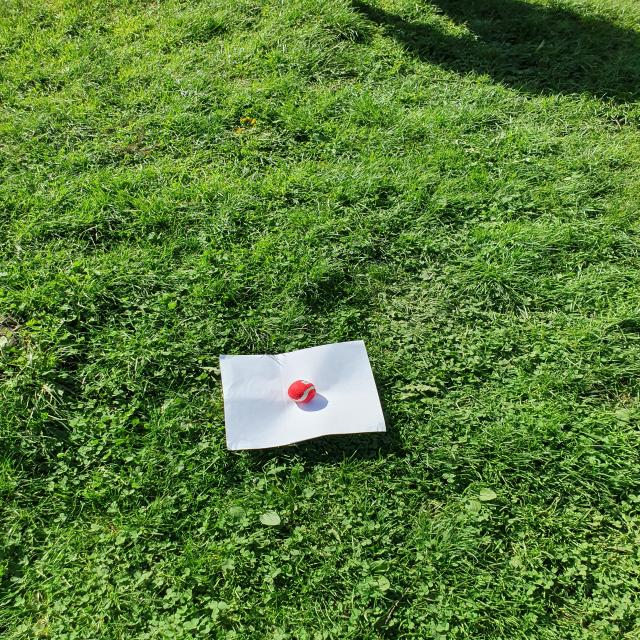red: (286, 380, 316, 403)
